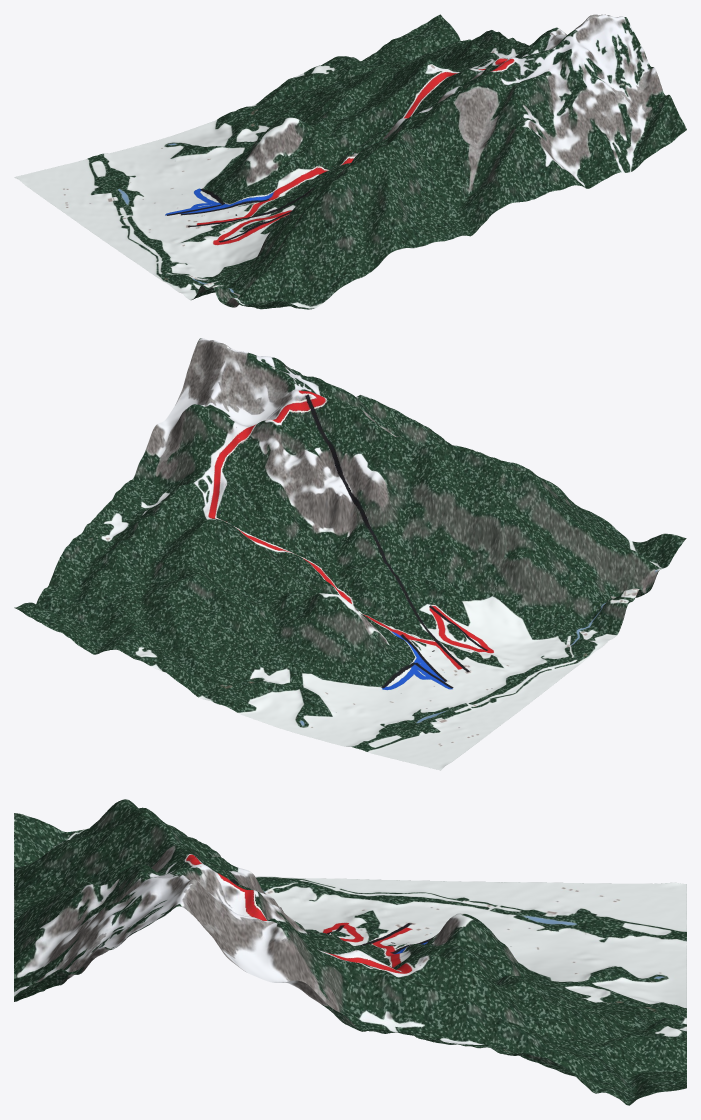
3 renders of one model, top to bottom at view 1: azimuth 30°, elevation 25°; view 2: azimuth 150°, elevation 25°; view 3: azimuth 270°, elevation 25°, orthographic. The views are drawn at different scales.
Parts seen in each view (by area): view 1: E4_Tegelberg.glb; view 2: E4_Tegelberg.glb; view 3: E4_Tegelberg.glb.
Boxes of the visible parts, x1,y1,x2,y2 form: E4_Tegelberg.glb: (14, 14, 686, 309); E4_Tegelberg.glb: (14, 338, 686, 770); E4_Tegelberg.glb: (14, 799, 686, 1105).
Bounding box in the file's own units: 3055 × 1351 × 3055.
Materials: 1 (1 with a texture image).
